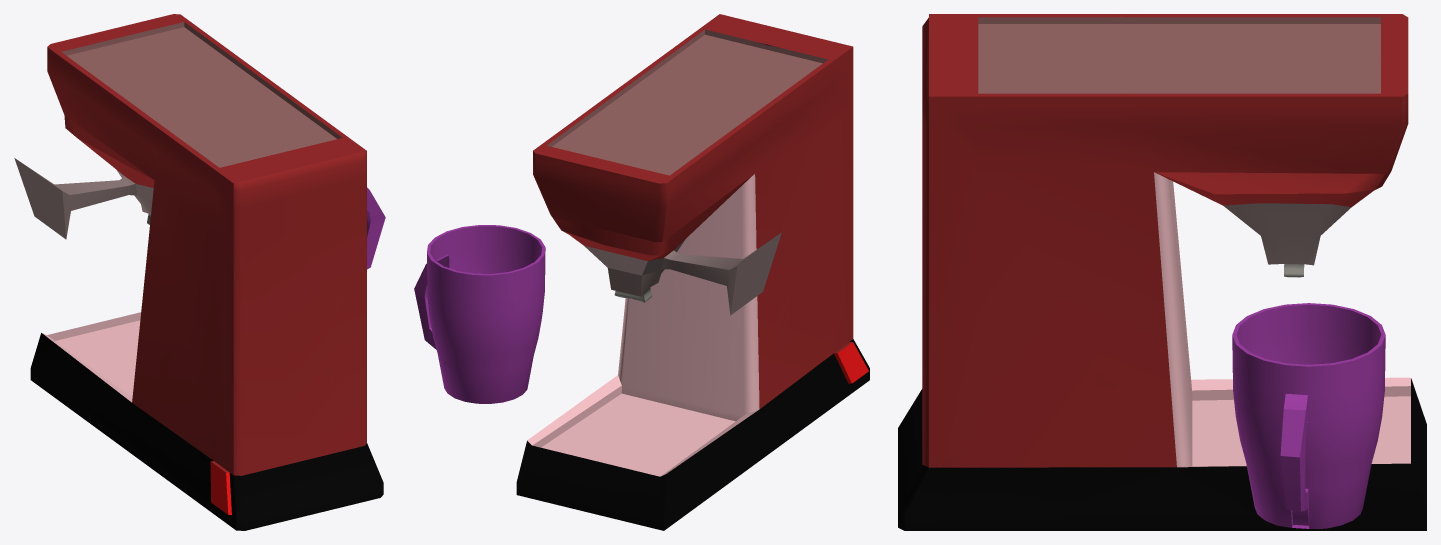
Rendered from Coffee_Machine_and_Cup 1.fbx.
3 views of the same model, side by side, from view 1: azimuth 30°, elevation 25°; view 2: azimuth 150°, elevation 25°; view 3: azimuth 270°, elevation 25° (orthographic). The views are drawn at different scales.
Visible parts, largest first — view 1: pasted__pCube22, pasted__pSphere1; view 2: pasted__pCube22, pasted__pSphere1; view 3: pasted__pCube22, pasted__pSphere1.
Part boxes in pixels (box(x1,y1,x2,y2)): pasted__pCube22: box(14, 14, 383, 530); pasted__pSphere1: box(367, 187, 385, 269); pasted__pCube22: box(516, 14, 869, 530); pasted__pSphere1: box(414, 225, 545, 403); pasted__pCube22: box(898, 14, 1426, 530); pasted__pSphere1: box(1232, 303, 1385, 528).
Bounding box in the file's own units: 107 × 100 × 112.
Materials: 2 (2 with a texture image).
